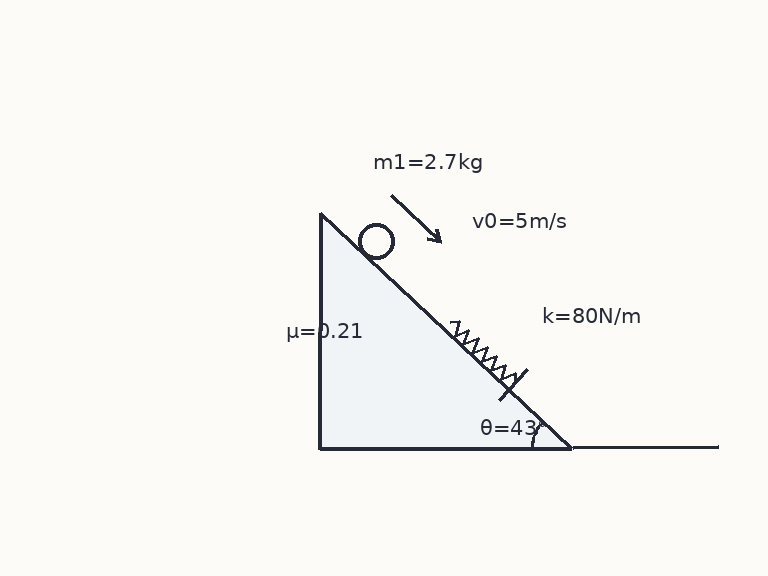ball: (356, 221, 396, 261)
ramp: (318, 211, 574, 450)
spring: (447, 319, 517, 385)
